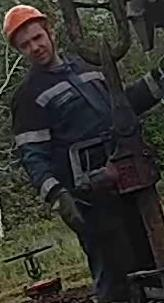gloves: (48, 189, 93, 230)
helmet: (2, 4, 47, 43)
vest: (12, 59, 107, 197)
